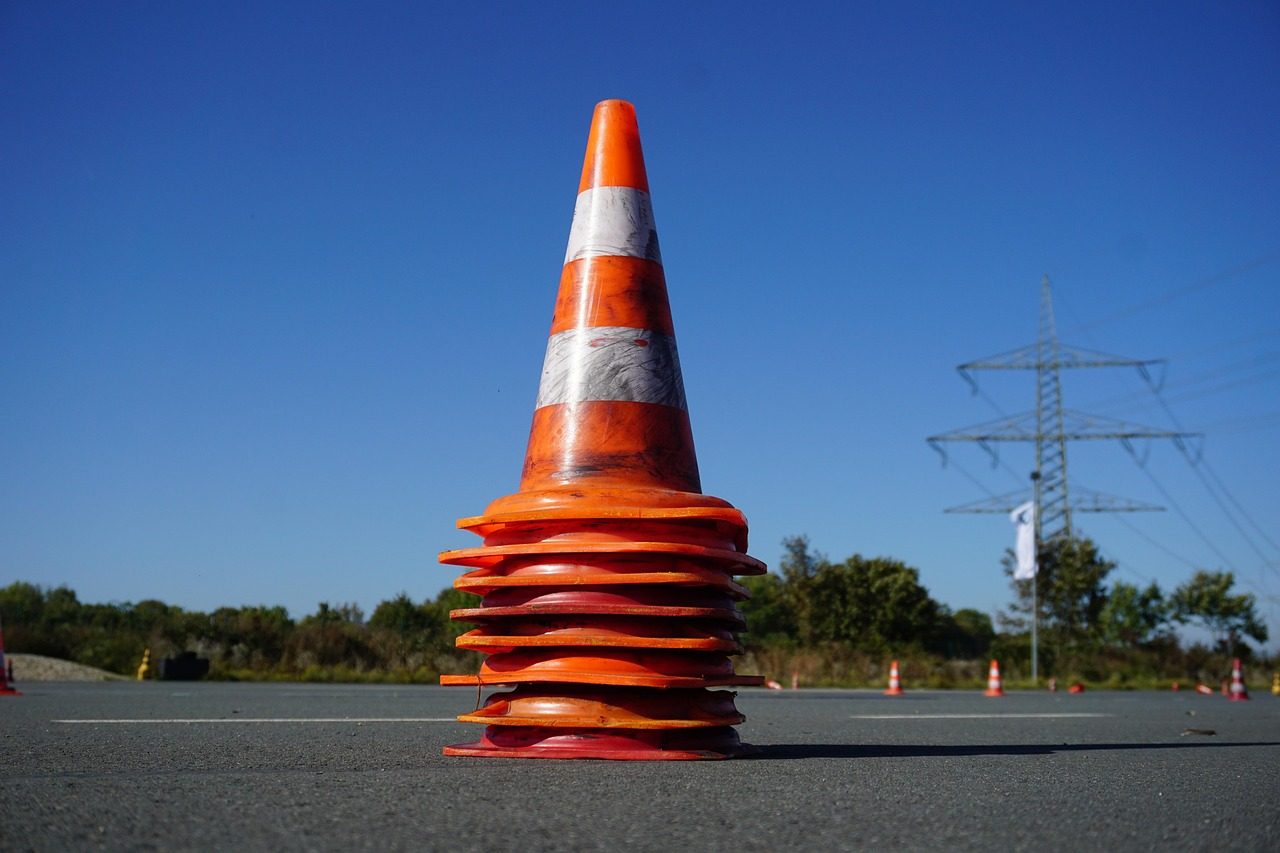traffic_cone: (437, 97, 769, 760), (0, 630, 22, 695), (1228, 658, 1250, 701), (0, 655, 21, 695), (983, 659, 1005, 697), (884, 660, 904, 695), (136, 648, 153, 680), (1271, 672, 1280, 695), (765, 678, 782, 690), (1068, 682, 1084, 694), (1196, 683, 1212, 694), (1221, 677, 1229, 696), (1048, 676, 1057, 692), (791, 672, 798, 689), (1171, 681, 1180, 691)
